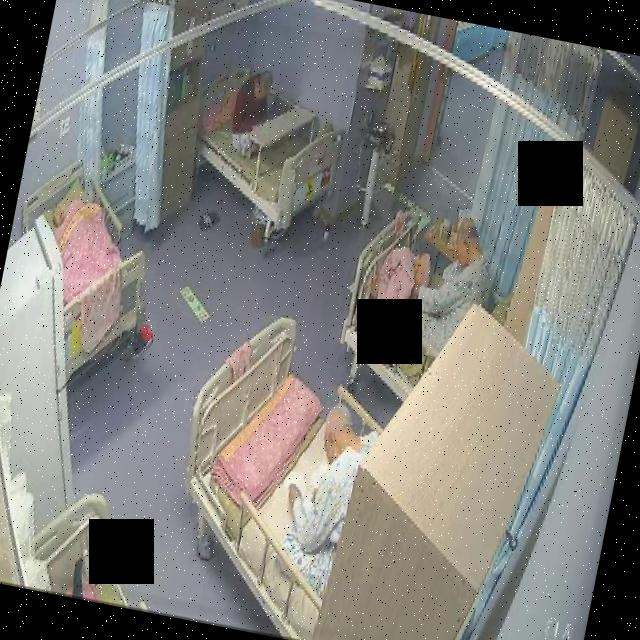bed: (153, 304, 384, 640), (0, 148, 171, 394), (332, 202, 491, 414), (185, 59, 354, 238)
patient: (360, 203, 502, 361), (269, 399, 376, 607), (223, 65, 281, 162)
sit: (274, 393, 381, 600), (361, 205, 499, 358), (223, 62, 282, 160)
